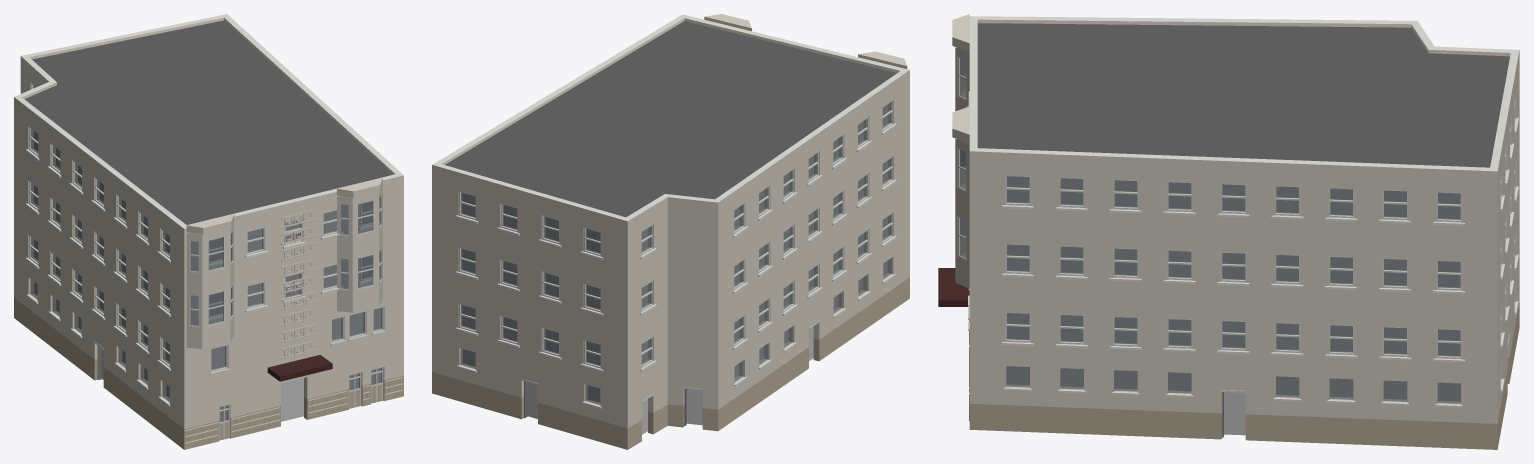
Rendered from exterior.glb.
3 renders of one model, left to right at view 1: azimuth 30°, elevation 25°; view 2: azimuth 150°, elevation 25°; view 3: azimuth 270°, elevation 25°, orthographic. The views are drawn at different scales.
Parts seen in each view (by area): view 1: shell, roof, bay-windows, glazing, shadow-proxy, frames, bay-glazing, facade-fret, trim, storefront, awning-box-3, hyD-rubble-3; view 2: shell, roof, glazing, shadow-proxy, frames, trim, bay-windows; view 3: shell, roof, glazing, shadow-proxy, frames, trim, bay-windows, bay-glazing, awning-box-3.
Boxes of the visible parts, x1=… form: shell: x1=14, y1=14, x2=403, y2=449; roof: x1=24, y1=20, x2=392, y2=224; bay-windows: x1=186, y1=177, x2=382, y2=349; glazing: x1=30, y1=86, x2=381, y2=422; shadow-proxy: x1=34, y1=131, x2=380, y2=421; frames: x1=29, y1=83, x2=383, y2=372; bay-glazing: x1=189, y1=194, x2=381, y2=327; facade-fret: x1=281, y1=209, x2=316, y2=359; trim: x1=25, y1=149, x2=385, y2=406; storefront: x1=93, y1=341, x2=383, y2=440; awning-box-3: x1=267, y1=354, x2=332, y2=381; hyD-rubble-3: x1=185, y1=377, x2=402, y2=446; shell: x1=432, y1=14, x2=909, y2=449; roof: x1=445, y1=21, x2=896, y2=217; glazing: x1=460, y1=102, x2=891, y2=404; shadow-proxy: x1=462, y1=104, x2=887, y2=434; frames: x1=459, y1=100, x2=893, y2=368; trim: x1=455, y1=123, x2=896, y2=408; bay-windows: x1=704, y1=14, x2=907, y2=68; shell: x1=969, y1=16, x2=1519, y2=449; roof: x1=977, y1=23, x2=1509, y2=167; glazing: x1=1006, y1=176, x2=1460, y2=403; shadow-proxy: x1=1007, y1=176, x2=1460, y2=435; frames: x1=1005, y1=94, x2=1515, y2=359; trim: x1=967, y1=106, x2=1518, y2=407; bay-windows: x1=952, y1=14, x2=969, y2=288; bay-glazing: x1=958, y1=56, x2=966, y2=260; awning-box-3: x1=938, y1=268, x2=969, y2=306.
Bounding box in the file's own units: 15.39 × 13 × 24.25.
